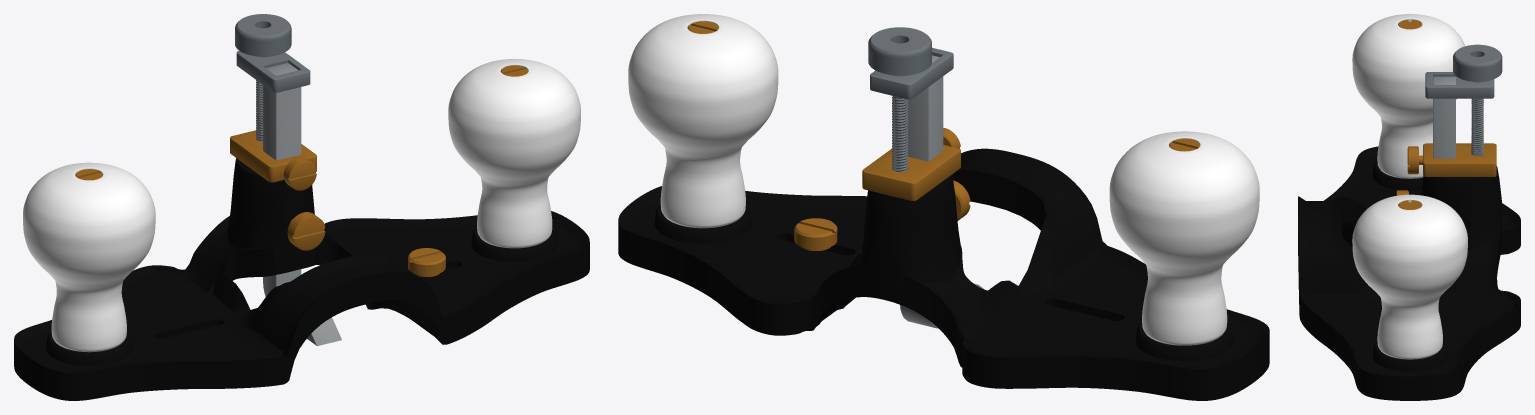
3 renders of one model, left to right at view 1: azimuth 30°, elevation 25°; view 2: azimuth 150°, elevation 25°; view 3: azimuth 270°, elevation 25°, orthographic. The views are drawn at different scales.
Parts seen in each view (by area): view 1: part_013_Main_casting_and_sole, part_007_Left_wooden_grip, part_004_Right_wooden_grip, part_015_Bent_cutting_iron, part_009_Knurled_top_wheel, part_002_Travelling_adjustment_fork, part_012_Depth_stop_collar, part_011_Blade_lock_screw, part_001_Wing_slot_screw, part_010_Depth_stop_lock_screw; view 2: part_013_Main_casting_and_sole, part_004_Right_wooden_grip, part_007_Left_wooden_grip, part_012_Depth_stop_collar, part_015_Bent_cutting_iron, part_009_Knurled_top_wheel, part_002_Travelling_adjustment_fork, part_003_Vertical_adjustment_screw, part_001_Wing_slot_screw; view 3: part_013_Main_casting_and_sole, part_004_Right_wooden_grip, part_007_Left_wooden_grip, part_012_Depth_stop_collar, part_009_Knurled_top_wheel, part_015_Bent_cutting_iron, part_002_Travelling_adjustment_fork, part_003_Vertical_adjustment_screw, part_010_Depth_stop_lock_screw.
Part boxes in pixels (x1,y1,x2,y2): part_013_Main_casting_and_sole: (14, 158, 589, 400); part_007_Left_wooden_grip: (23, 162, 155, 352); part_004_Right_wooden_grip: (448, 59, 580, 248); part_015_Bent_cutting_iron: (263, 63, 341, 346); part_009_Knurled_top_wheel: (235, 14, 291, 57); part_002_Travelling_adjustment_fork: (236, 51, 310, 92); part_012_Depth_stop_collar: (230, 130, 316, 182); part_011_Blade_lock_screw: (287, 212, 325, 250); part_001_Wing_slot_screw: (408, 248, 445, 275); part_010_Depth_stop_lock_screw: (283, 157, 316, 190); part_013_Main_casting_and_sole: (618, 148, 1269, 400); part_004_Right_wooden_grip: (628, 14, 778, 228); part_007_Left_wooden_grip: (1109, 131, 1259, 345); part_012_Depth_stop_collar: (862, 145, 960, 200); part_015_Bent_cutting_iron: (900, 55, 984, 328); part_009_Knurled_top_wheel: (868, 27, 931, 76); part_002_Travelling_adjustment_fork: (870, 47, 953, 99); part_003_Vertical_adjustment_screw: (892, 96, 908, 171); part_001_Wing_slot_screw: (794, 218, 837, 249); part_013_Main_casting_and_sole: (1298, 146, 1520, 400); part_004_Right_wooden_grip: (1352, 194, 1467, 359); part_007_Left_wooden_grip: (1352, 14, 1464, 178); part_012_Depth_stop_collar: (1423, 143, 1496, 176); part_009_Knurled_top_wheel: (1453, 44, 1502, 82); part_015_Bent_cutting_iron: (1433, 76, 1455, 158); part_002_Travelling_adjustment_fork: (1425, 72, 1494, 98); part_003_Vertical_adjustment_screw: (1471, 98, 1483, 155); part_010_Depth_stop_lock_screw: (1407, 146, 1422, 174).
Size of the model in its own units: 0.216 by 0.1018 by 0.0876.
